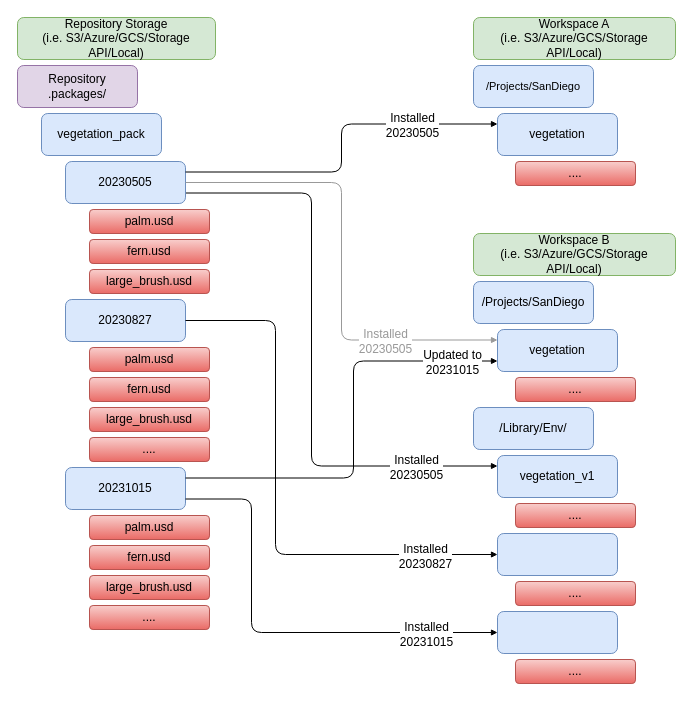
Image size: 693x701. Some labels were removed from this diagram. Each missing label, with the centre of its shape:
vegetation_v2: the point at 557,554
vegetation_v3: the point at 557,632
